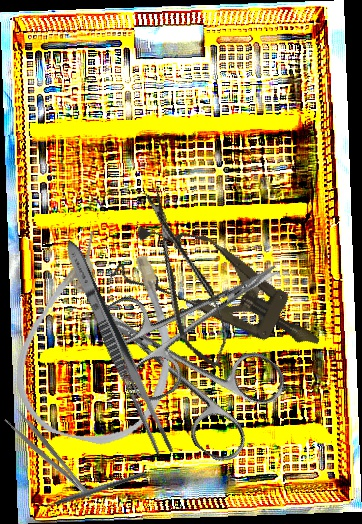Cannula: (2, 221, 199, 457)
Chopper: (35, 464, 147, 513)
Dressing Forceps: (58, 236, 178, 460), (4, 407, 94, 507)
Iris Scissors: (65, 260, 295, 469), (92, 225, 305, 408)
Micro Scissor: (134, 180, 237, 377)
Speculum: (109, 205, 338, 378)
